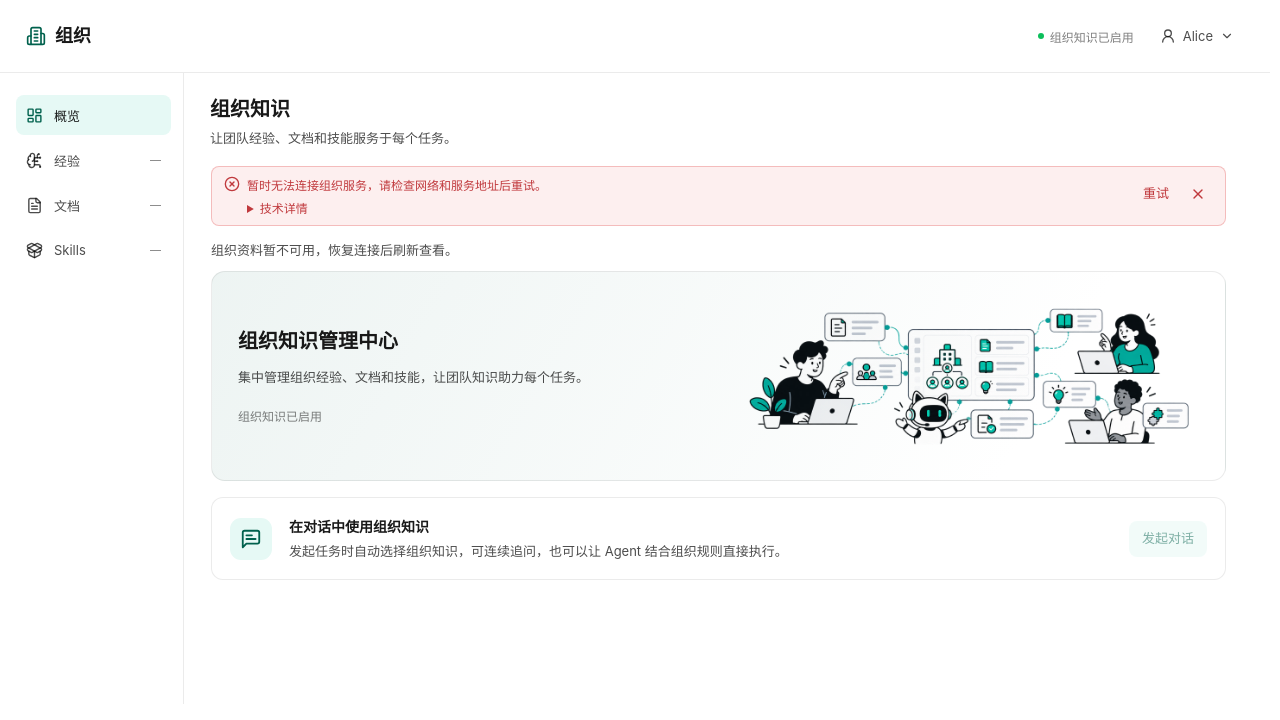
Test: OrganizationMemoryPanel › 首次加载失败不显示零数据，重试后恢复真实资源数量
The width and height of the screenshot is (1280, 720).
Expected: the message "暂时无法连接组织服务，请检查网络和服务地址后重试。 技术详情 重试" is shown, [211, 166, 1226, 226]
Expected: the text "组织资料暂不可用，恢复连接后刷新查看。" is shown, [211, 242, 458, 258]
Click the button "重试": (1156, 194) [1136, 176, 1176, 212]
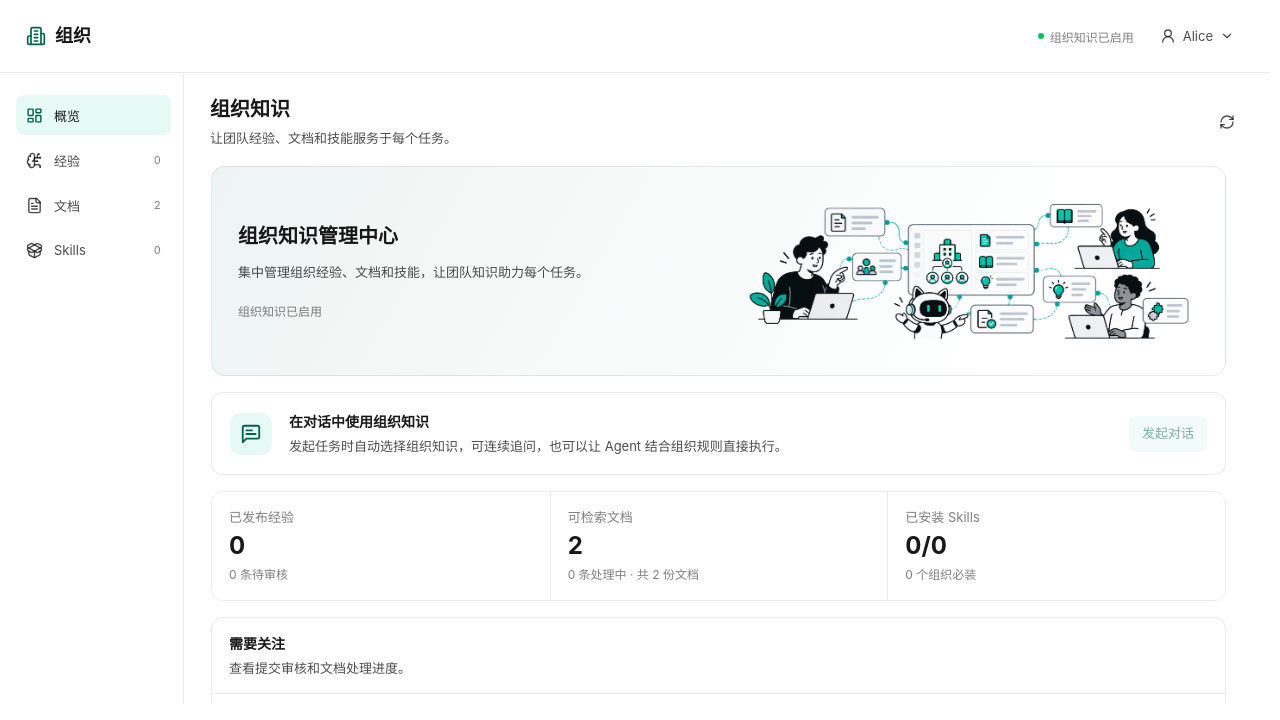
Expected: the element named "组织知识概况" shows "可检索文档", [550, 492, 887, 600]
Expected: the message "暂时无法连接组织服务，请检查网络和服务地址后重试。 技术详情 重试" is gone
